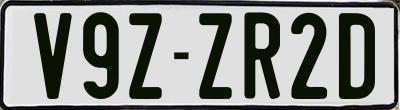2: (290, 10, 332, 102)
9: (82, 10, 118, 103)
D: (338, 13, 376, 104)
R: (241, 12, 281, 105)
V: (33, 11, 77, 102)
Z: (198, 12, 236, 99), (127, 10, 162, 99)
